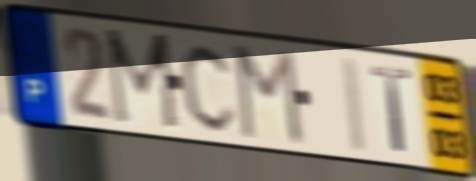2: (62, 25, 113, 124)
C: (178, 40, 240, 136)
I: (339, 53, 371, 157)
M: (102, 25, 184, 135), (232, 42, 306, 149)
T: (368, 62, 415, 155)
